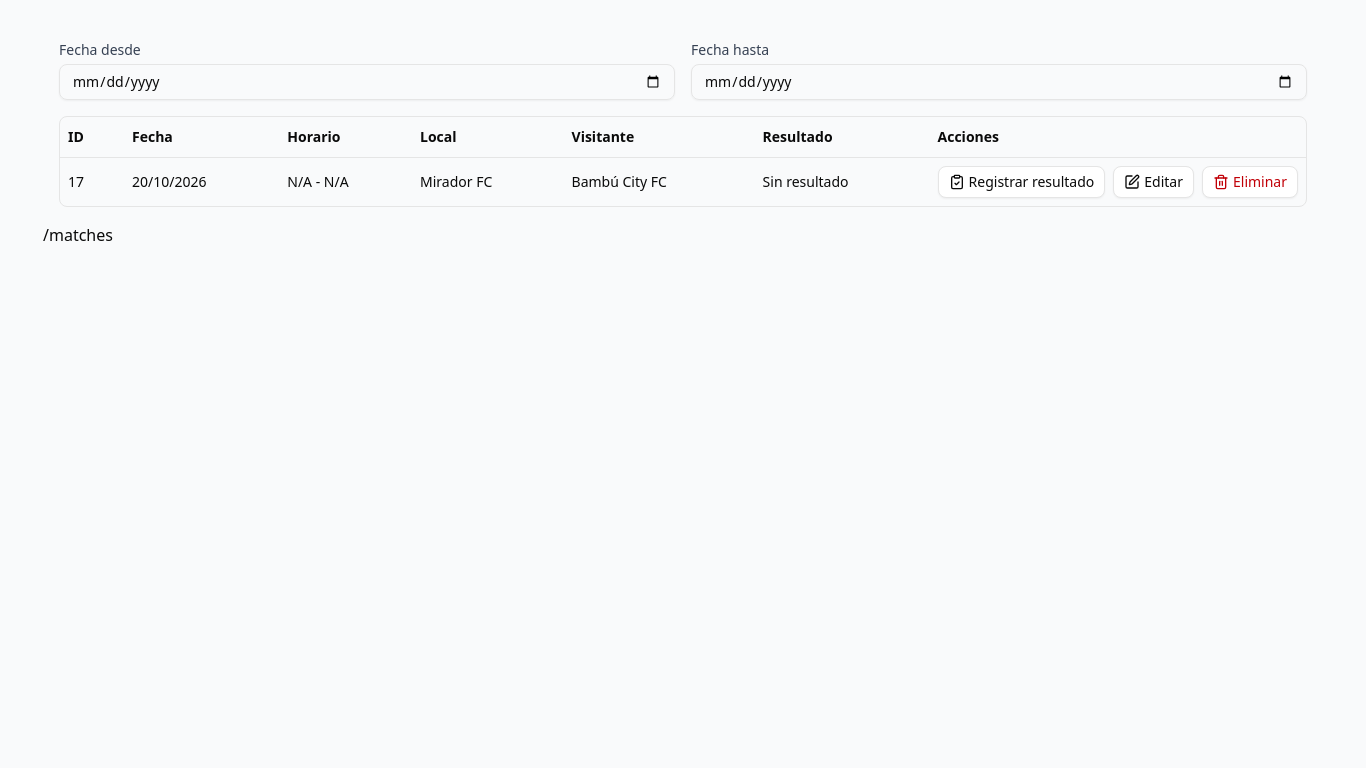
Test: clears an expired session and returns to sign-in without changing the result
The image size is (1366, 768).
Click the button "Registrar resultado".
click(1021, 182)  # box [938,166,1105,198]
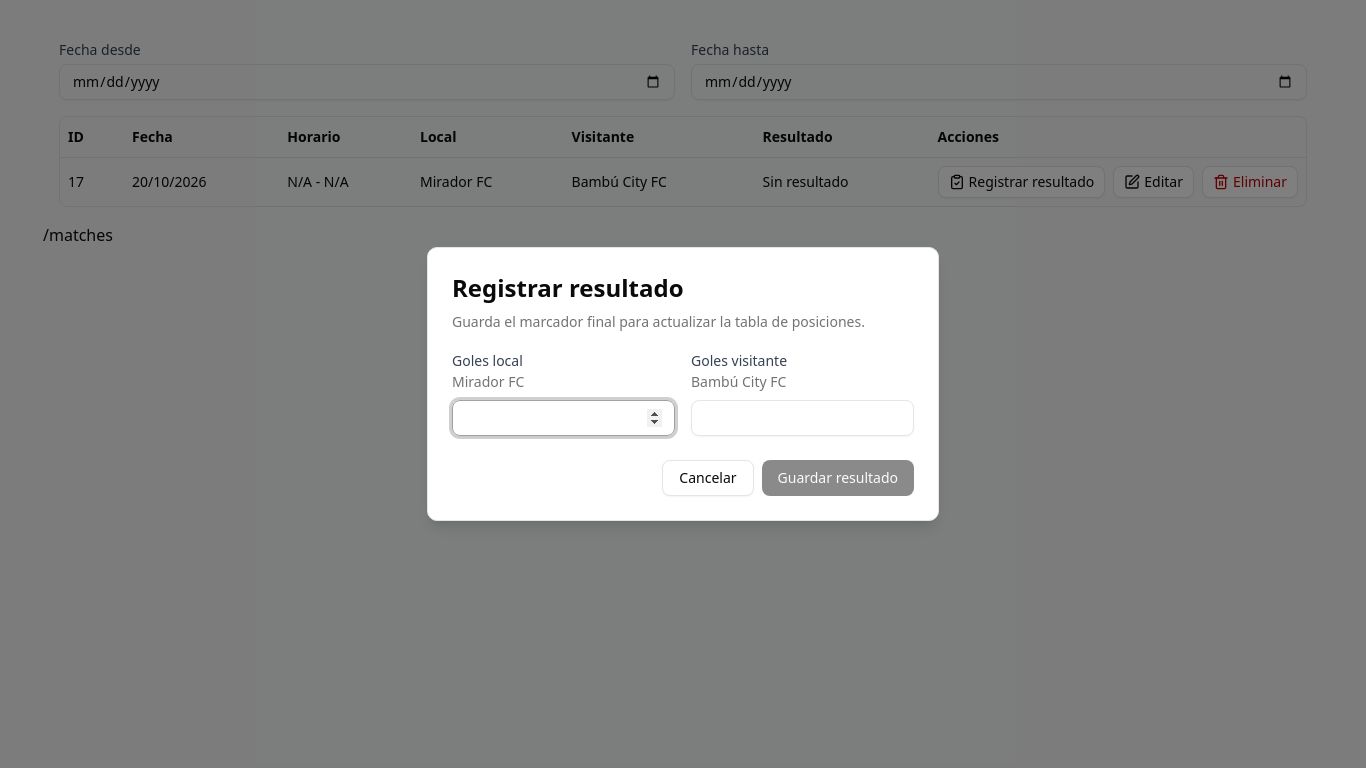
expect the text "Mirador FC" is shown: met, box [452,372,524,391]
expect the text "Bambú City FC" is shown: met, box [691,372,786,391]
expect the number field labelled "Goles local" is not empty: met
Type "2" into the number field labelled "Goles local".
click(564, 418); type("2")  # box [452,400,675,436]
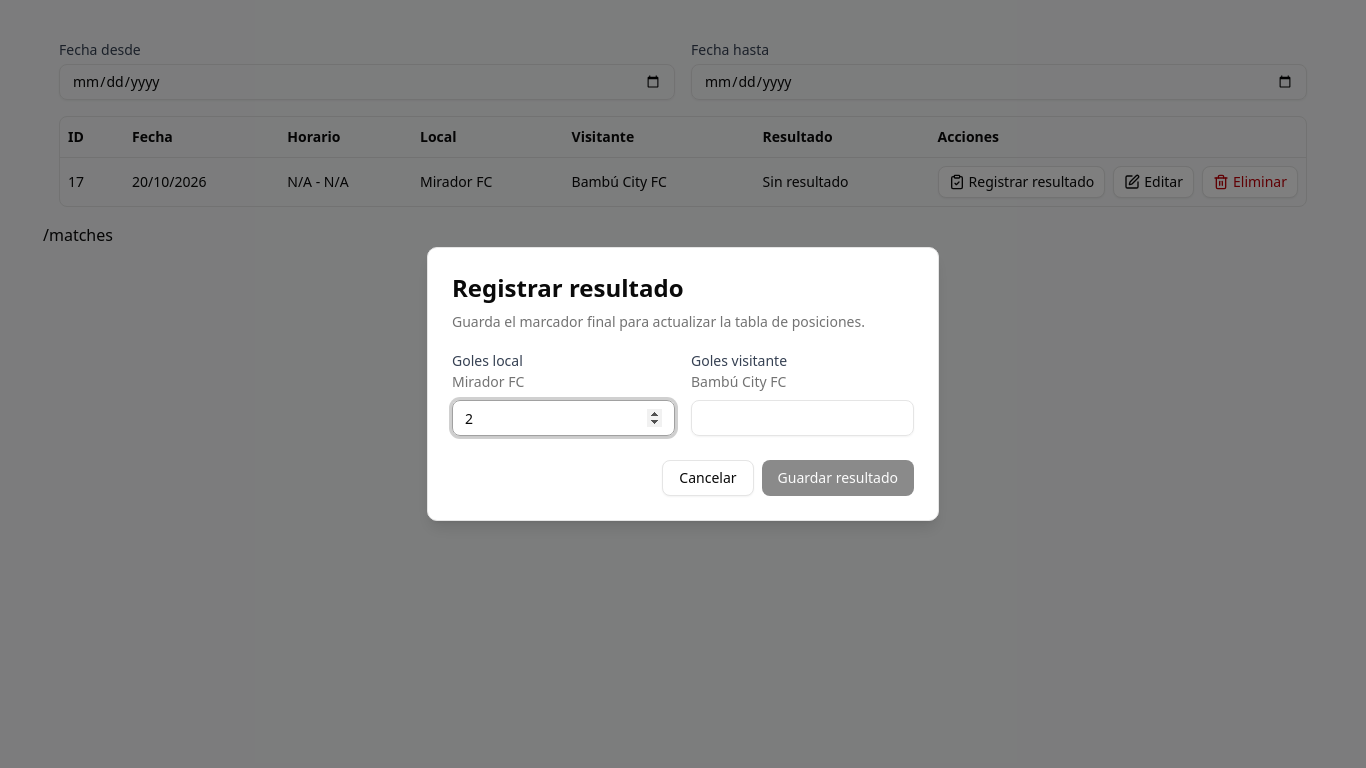
Type "0" into the number field labelled "Goles visitante".
click(802, 418); type("0")  # box [691,400,914,436]
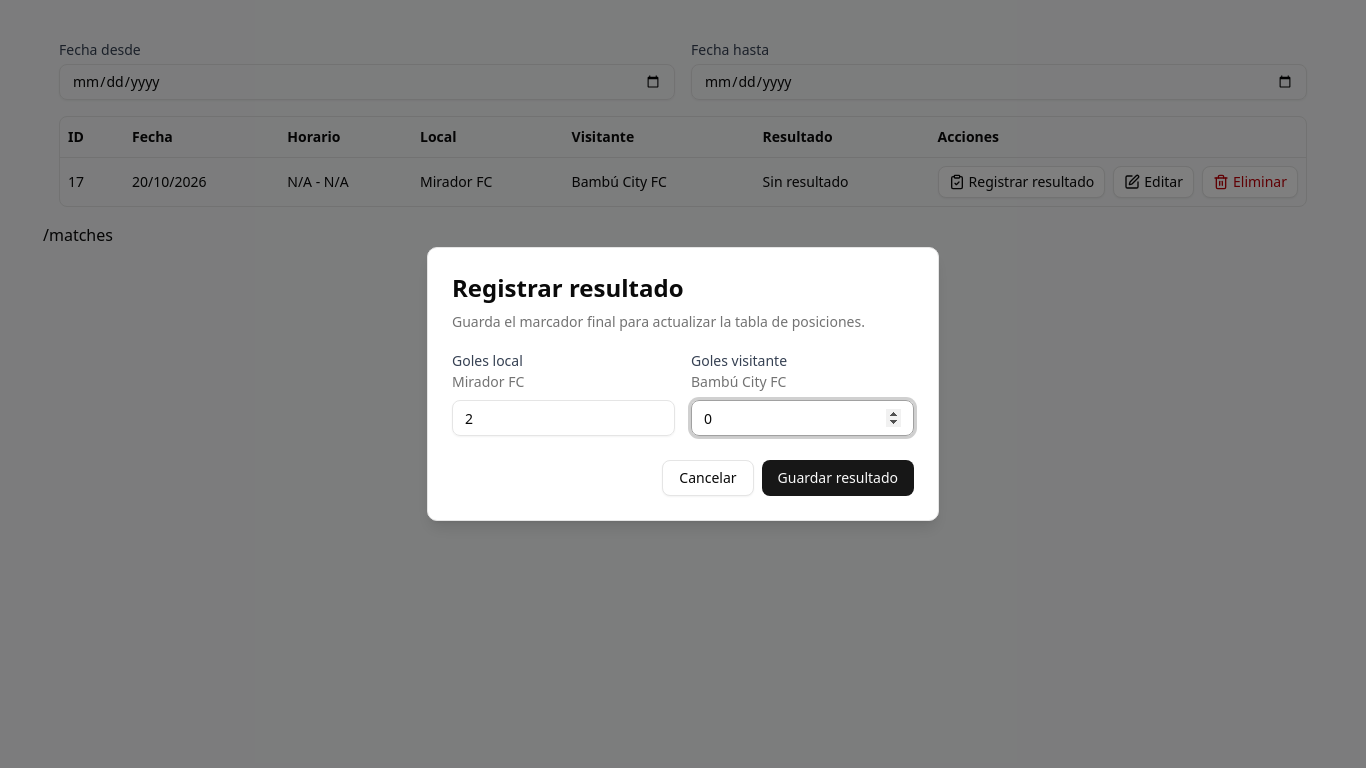
Click the button "Guardar resultado".
click(838, 478)  # box [762,460,914,496]
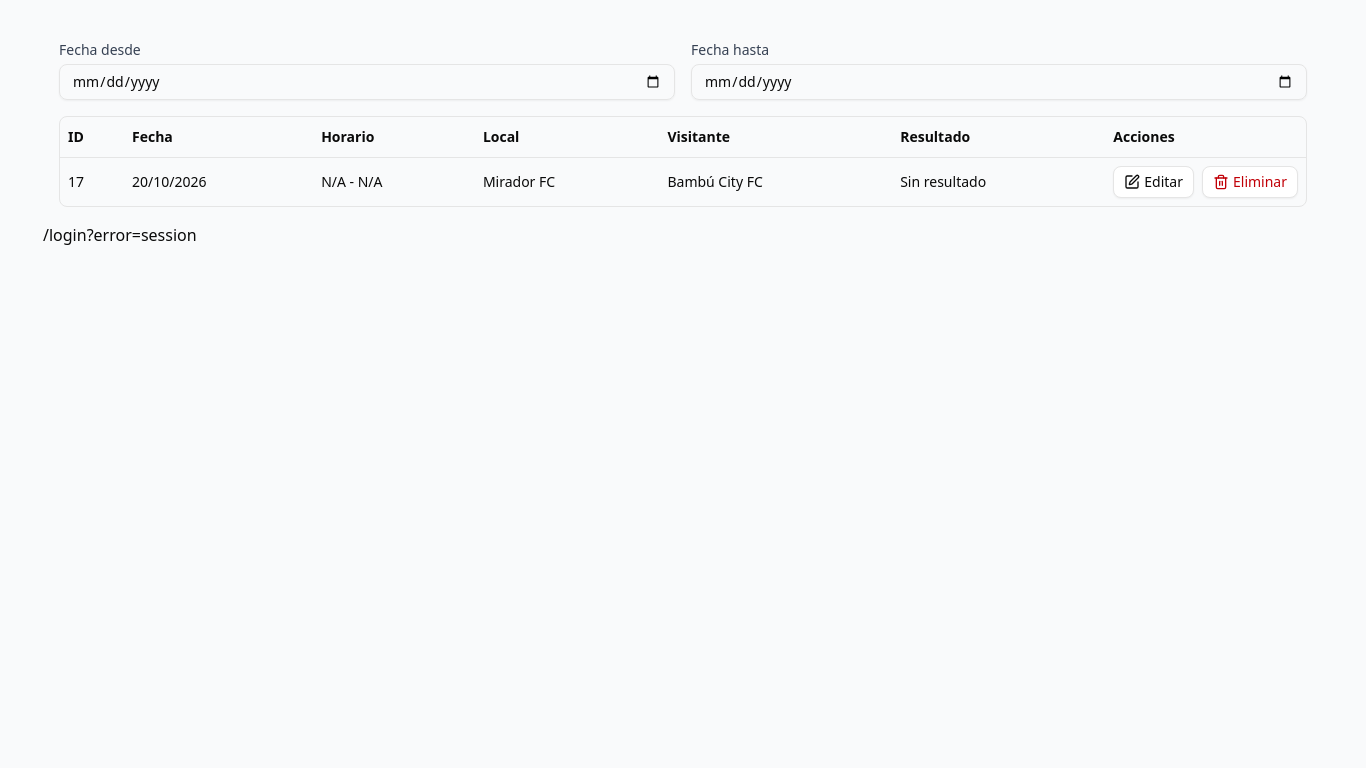
expect the text named "Ubicación" reads "/login?error=session": met, box [43,224,197,246]
expect the dialog is gone: met
expect the button "Registrar resultado" is gone: met
